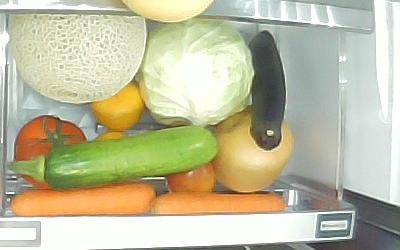cabbage: (136, 18, 254, 127)
carrot: (10, 182, 156, 216), (150, 192, 287, 216)
eggplant: (248, 29, 286, 151)
melon: (8, 14, 147, 104)
pear: (218, 110, 291, 192)
prune: (166, 162, 216, 193)
tangerine: (90, 80, 146, 131)
tomato: (13, 113, 88, 162)
zucchini: (8, 126, 217, 187)
